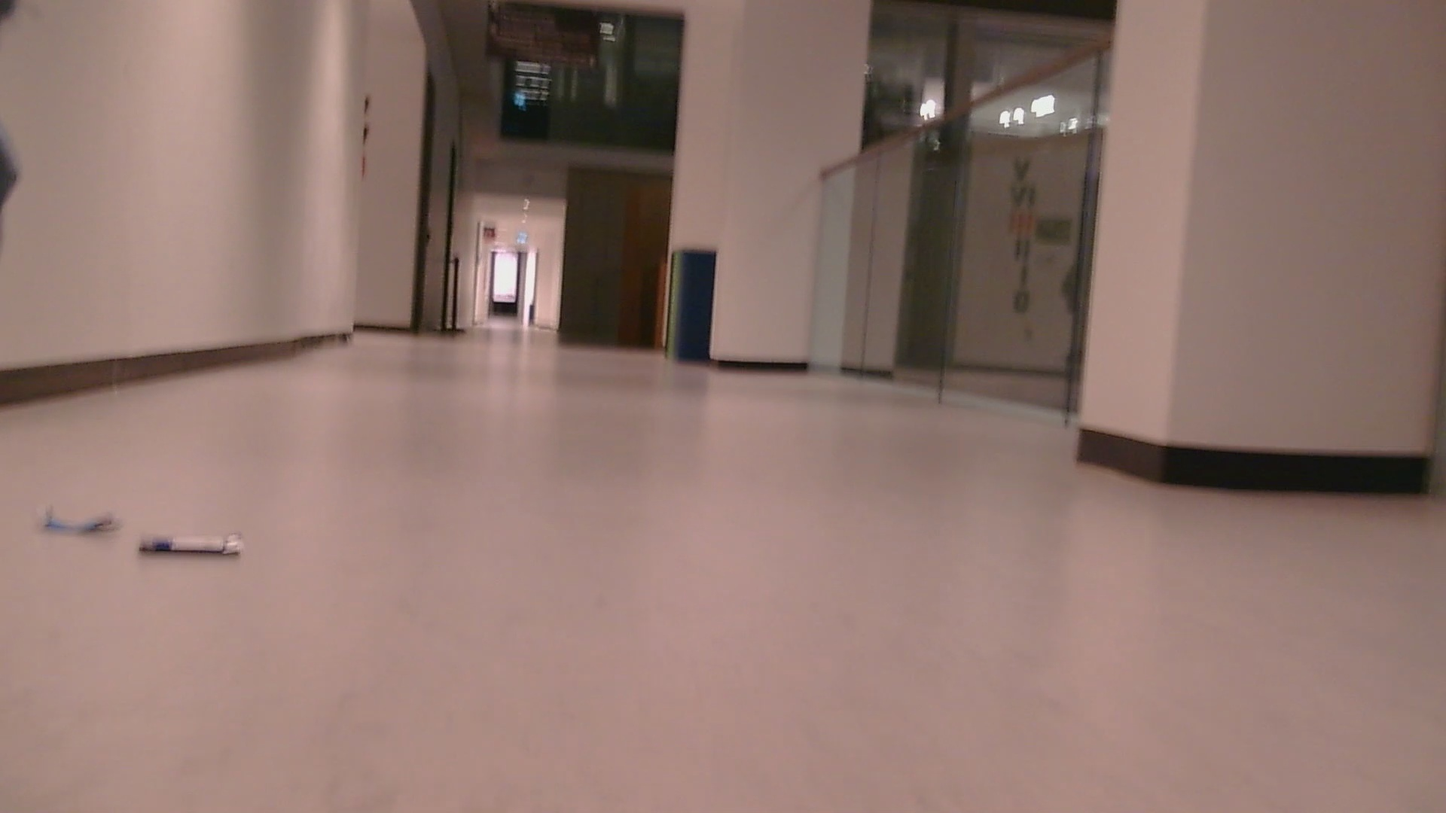carton: (38, 495, 126, 543), (146, 524, 247, 563)
